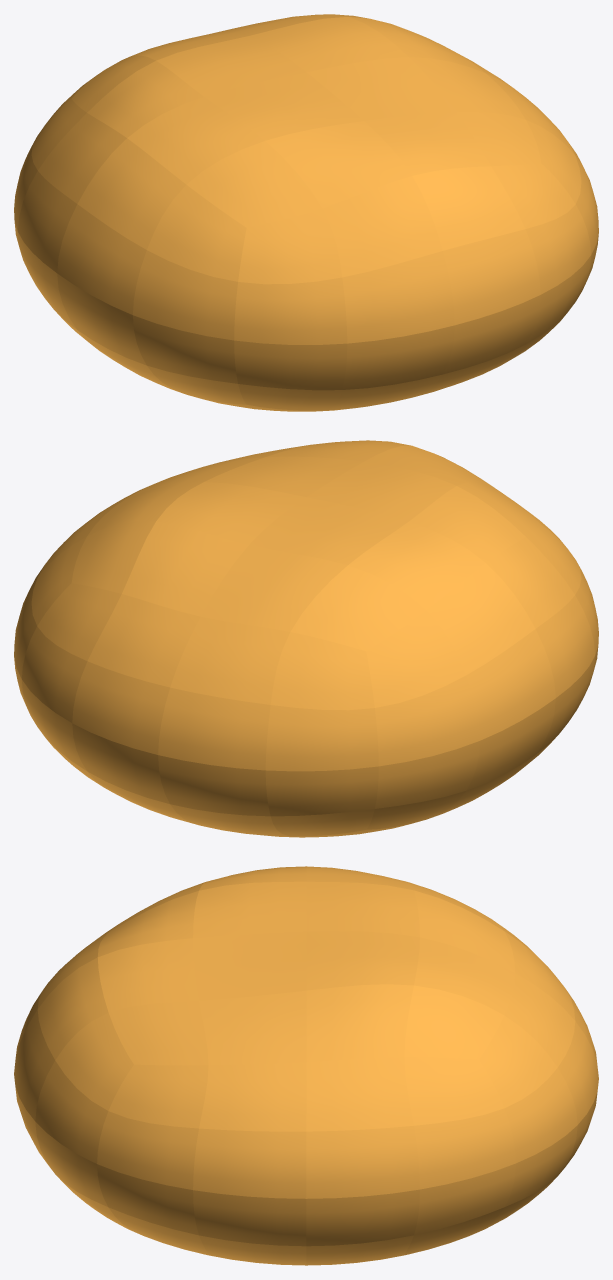
File: partty.fbx
The picture shows the model from 3 angles, top to bottom: view 1: azimuth 30°, elevation 25°; view 2: azimuth 150°, elevation 25°; view 3: azimuth 270°, elevation 25°; orthographic projection.
Visible parts, largest first — view 1: Cube.002; view 2: Cube.002; view 3: Cube.002.
Boxes of the visible parts, x1,y1,x2,y2 form: Cube.002: [14, 14, 598, 411]; Cube.002: [14, 440, 598, 837]; Cube.002: [14, 866, 598, 1265].
Size of the model in its own units: 51.33 by 28.75 by 52.9.
